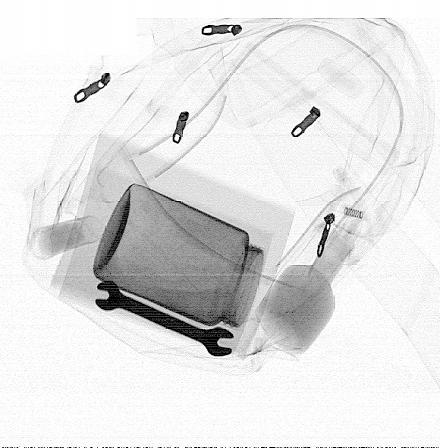Wrench: (94, 279, 235, 358)
